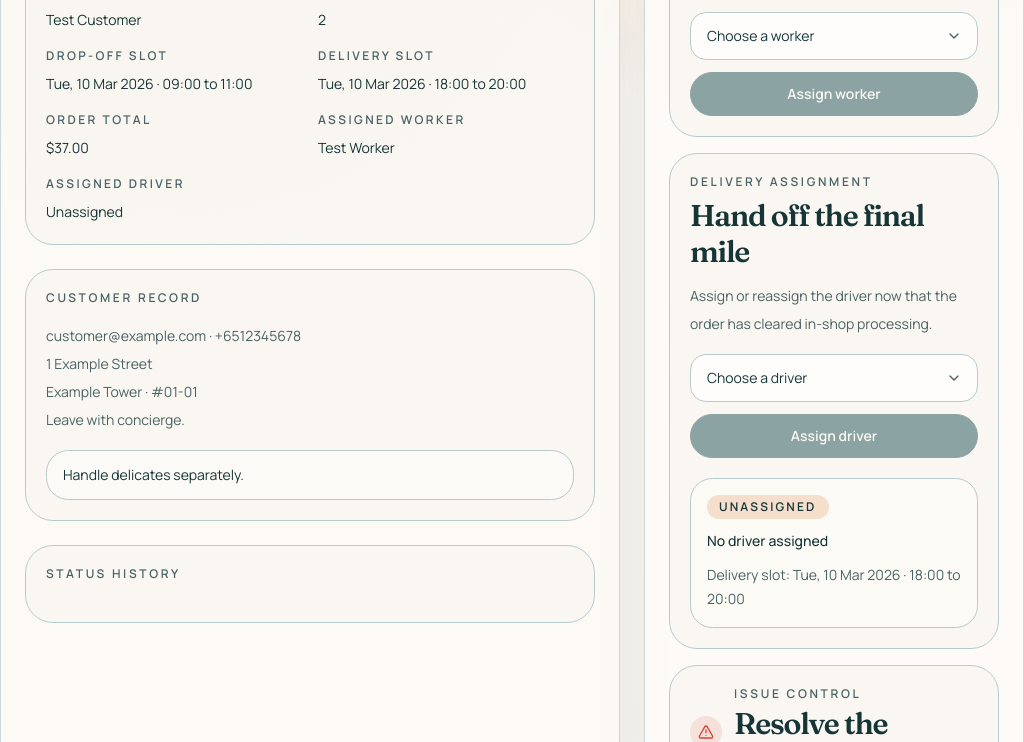
Test case: AdminOrderDetailPage › enables driver assignment when the order is ready for delivery
(page scrolled)
Check: the text "Assign or reassign the driver now that the order has cleared in-shop processing." is shown, box [690,282,978,338]
Select "Driver One" in the dropdown below "Hand off the final mile" at (834, 378), box [690,354,978,402]
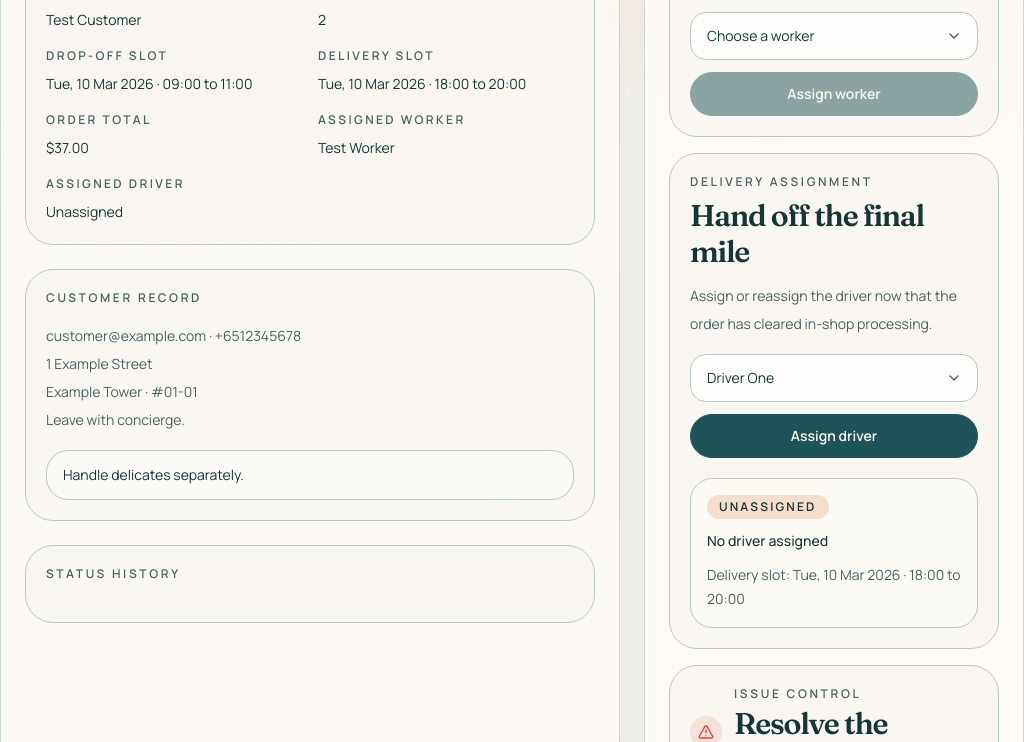
Check: the button "Assign driver" is enabled, box [690,414,978,458]
